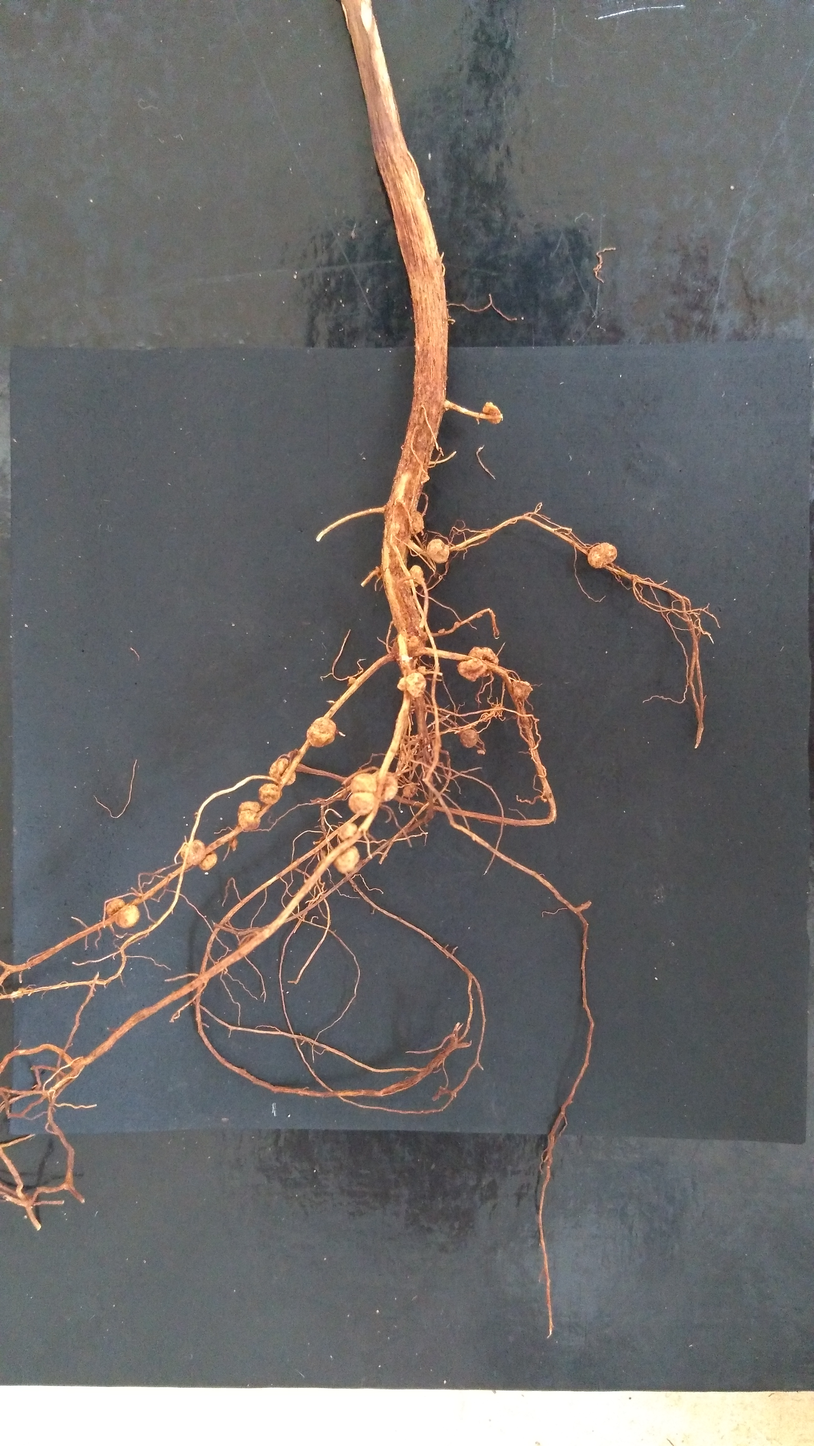nodule: (457, 646, 499, 682), (348, 773, 377, 816), (180, 839, 217, 871), (268, 749, 298, 785), (105, 898, 140, 928), (306, 717, 337, 748), (372, 770, 398, 802), (586, 543, 618, 568), (333, 846, 360, 873), (397, 673, 426, 698), (237, 800, 260, 831), (426, 538, 450, 564), (258, 783, 282, 805), (510, 679, 532, 701), (409, 509, 424, 538), (408, 633, 425, 658), (483, 402, 502, 424), (459, 728, 478, 749), (408, 565, 424, 589), (339, 822, 357, 840), (402, 783, 418, 798), (229, 837, 238, 851), (417, 665, 428, 676), (375, 565, 383, 579), (347, 676, 358, 685), (477, 748, 486, 755), (438, 628, 445, 634), (454, 621, 460, 628), (476, 612, 483, 618)
